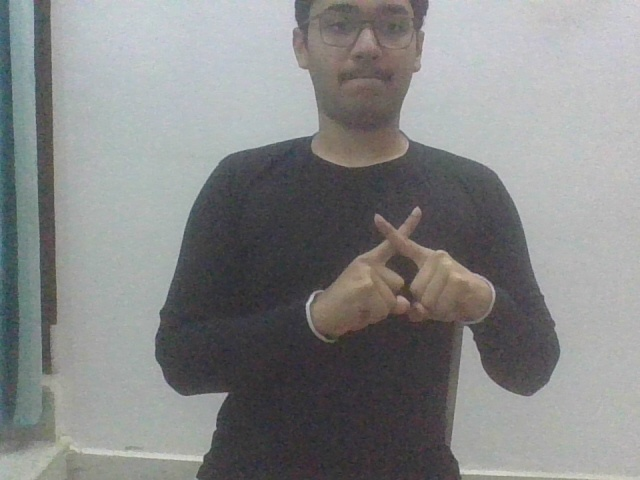X: (328, 205, 475, 332)
